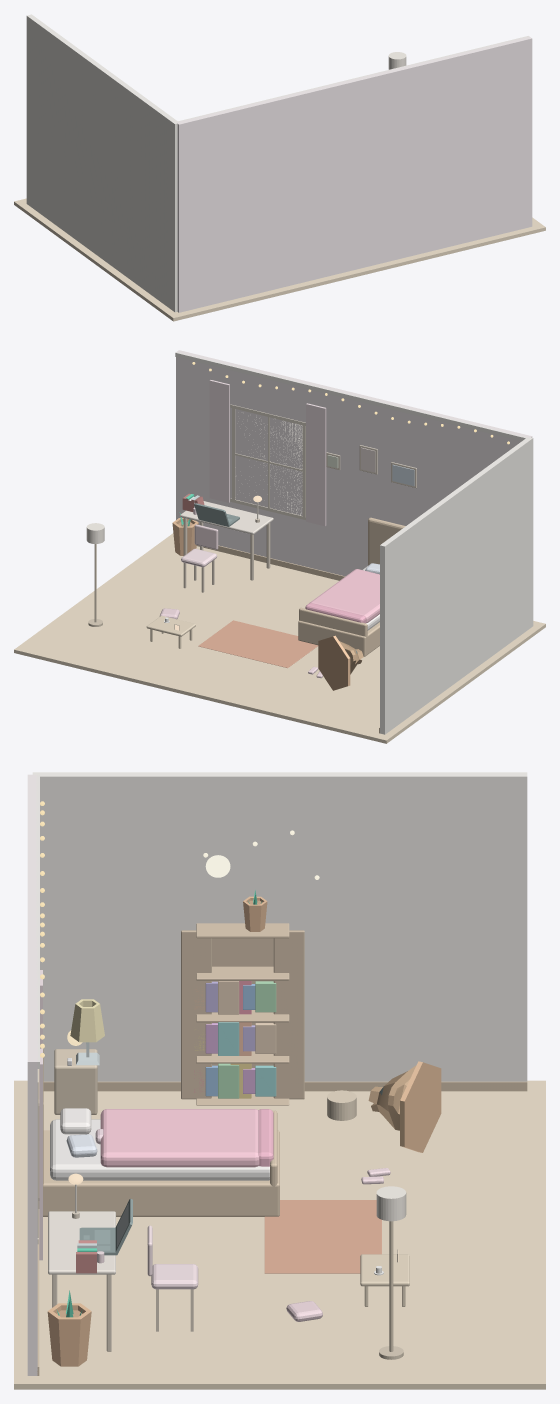
File: cozy-bedroom-v6.glb
3 views of the same model, one above another, from view 1: azimuth 30°, elevation 25°; view 2: azimuth 150°, elevation 25°; view 3: azimuth 270°, elevation 25° (orthographic). The views are drawn at different scales.
Parts seen in each view (by area): view 1: WBack, WLeft, Floor, CR_B; view 2: WBack, Floor, WLeft, Rug, CuL, CuR, Blanket, CR_B, bear(Clone), BBase, DT, FBoard (+7 smaller); view 3: WLeft, Floor, Blanket, BBase, Rug, WBack, SR, Mattress, SL, bear(Clone), DT, BB_L (+22 smaller).
Part boxes in pixels (bbox=[...]): WBack: bbox=[176, 36, 532, 312]; WLeft: bbox=[26, 14, 178, 312]; Floor: bbox=[14, 198, 545, 321]; CR_B: bbox=[178, 36, 528, 121]; WBack: bbox=[176, 350, 532, 576]; Floor: bbox=[14, 533, 545, 743]; WLeft: bbox=[380, 437, 533, 734]; Rug: bbox=[198, 620, 318, 667]; CuL: bbox=[306, 403, 326, 526]; CuR: bbox=[209, 380, 229, 502]; Blanket: bbox=[310, 569, 379, 622]; CR_B: bbox=[175, 352, 529, 441]; bear(Clone): bbox=[318, 635, 363, 690]; BBase: bbox=[298, 620, 379, 656]; DT: bbox=[180, 501, 273, 534]; FBoard: bbox=[299, 607, 367, 637]; WLeft: bbox=[32, 772, 527, 1081]; Floor: bbox=[14, 1080, 545, 1389]; Blanket: bbox=[100, 1109, 259, 1167]; BBase: bbox=[38, 1130, 279, 1216]; Rug: bbox=[264, 1200, 381, 1273]; WBack: bbox=[27, 774, 37, 1375]; SR: bbox=[273, 930, 304, 1099]; Mattress: bbox=[50, 1119, 269, 1180]; SL: bbox=[181, 930, 211, 1099]; bear(Clone): bbox=[368, 1061, 441, 1152]; DT: bbox=[48, 1211, 115, 1274]; BB_L: bbox=[43, 1081, 527, 1091].
Bounding box in the file's own units: 5.8 × 2.85 × 4.3.
